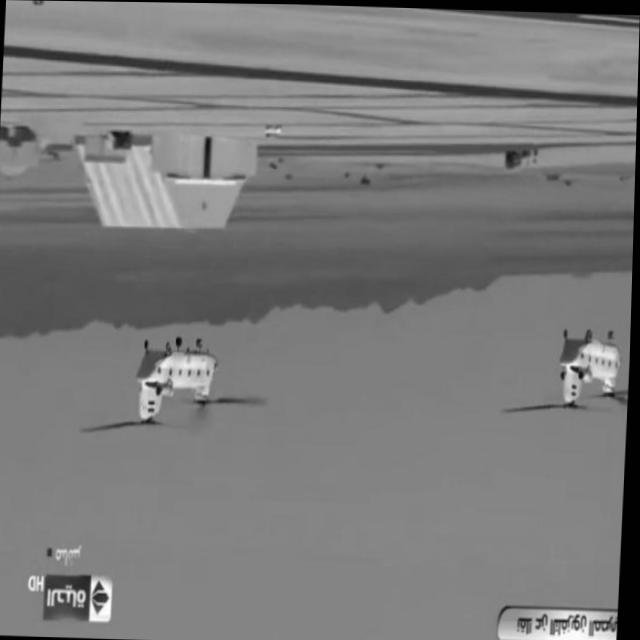helikopter: (101, 315, 263, 440), (526, 313, 633, 421)
